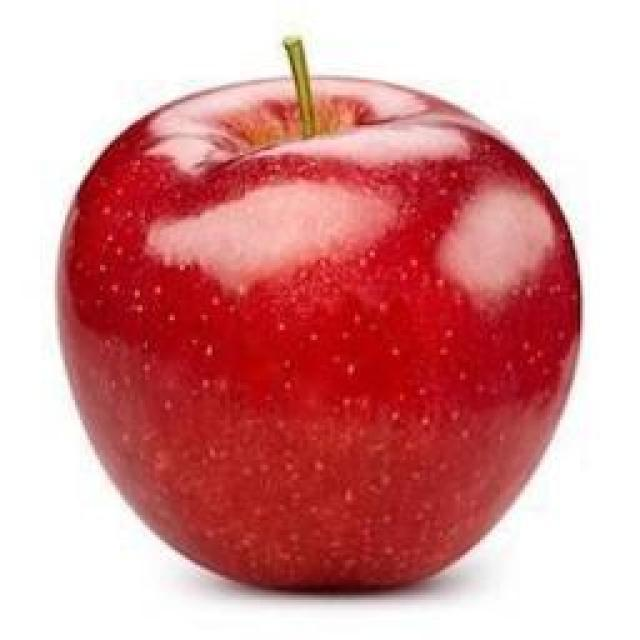Apple: (59, 78, 579, 589)
